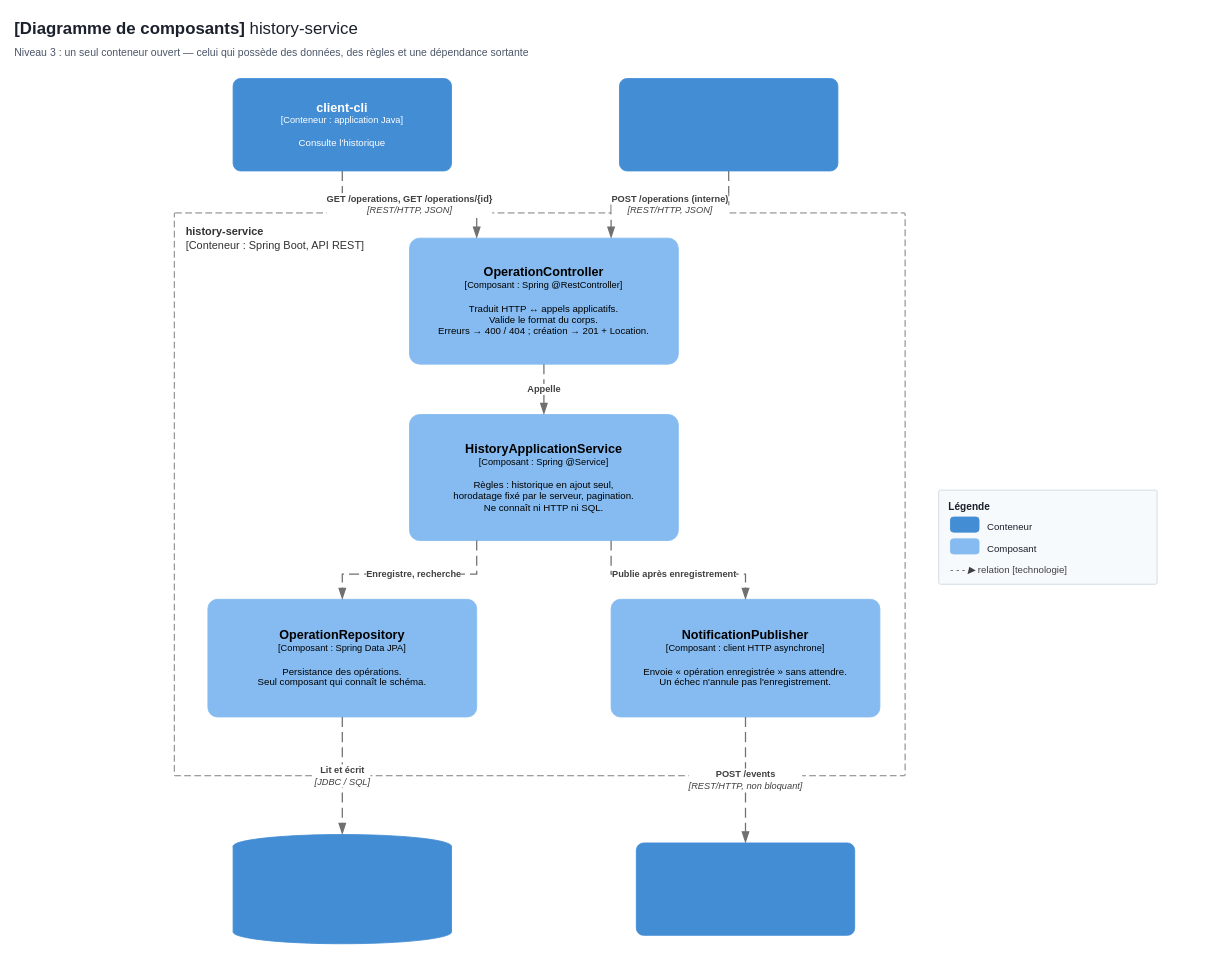
Image size: 1221x958. Some labels were removed from this diagram. Here are the shapes that lost their labels. From the top down, the centre of each, then its label:
the point at 728,124: calc-service [Conteneur : Spring Boot] Enregistre chaque opération calculée
the point at 342,889: history-db [Conteneur : PostgreSQL] Table des opérations
the point at 745,888: notification-service [Conteneur : Spring Boot] Diffuse aux abonnés
